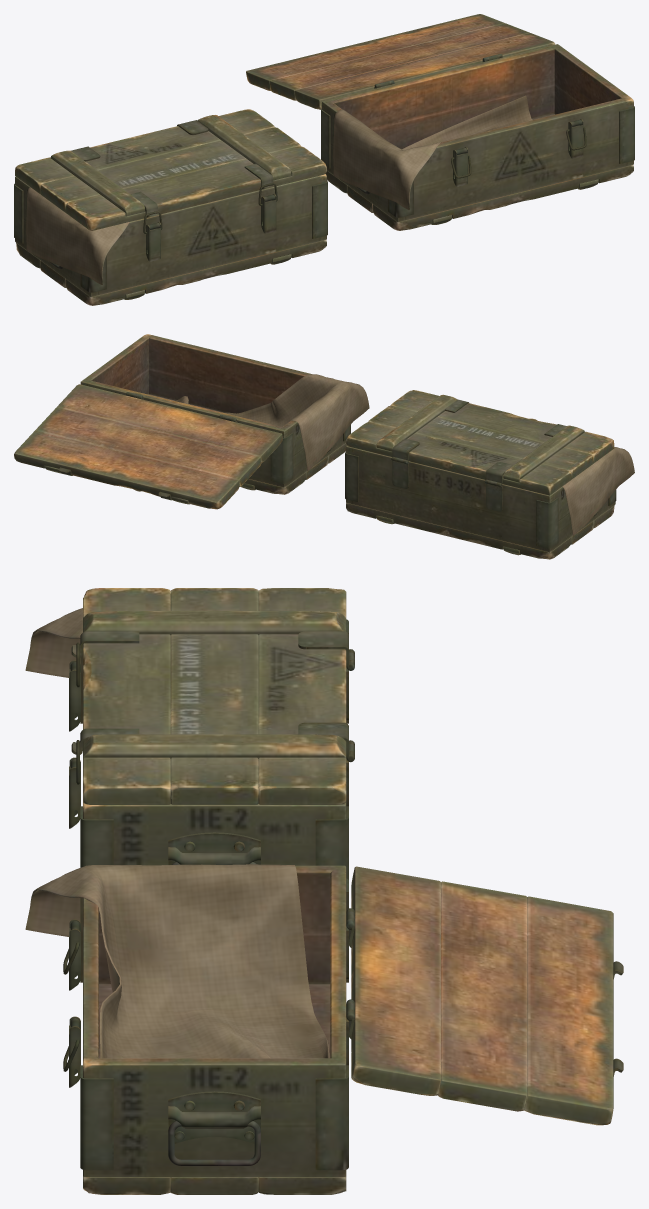
The model's file is old_military_crate.glb.
The picture shows the model from 3 angles, top to bottom: view 1: azimuth 30°, elevation 25°; view 2: azimuth 150°, elevation 25°; view 3: azimuth 270°, elevation 25°; orthographic projection. The views are drawn at different scales.
Parts seen in each view (by area): view 1: old_military_crate_b, old_military_crate_lid_a, old_military_crate_a, old_military_crate_lid_b, old_military_crate_cloth_b, old_military_crate_cloth_a, old_military_crate_latch_a, old_military_crate_latch_b; view 2: old_military_crate_lid_b, old_military_crate_lid_a, old_military_crate_a, old_military_crate_b, old_military_crate_cloth_b, old_military_crate_cloth_a; view 3: old_military_crate_lid_a, old_military_crate_lid_b, old_military_crate_b, old_military_crate_cloth_b, old_military_crate_a, old_military_crate_cloth_a, old_military_crate_latch_b, old_military_crate_latch_a.
Part boxes in pixels (x1,y1,x2,y2): old_military_crate_b: (321, 44, 634, 230); old_military_crate_lid_a: (15, 109, 326, 230); old_military_crate_a: (14, 174, 327, 305); old_military_crate_lid_b: (246, 14, 555, 109); old_military_crate_cloth_b: (333, 95, 532, 209); old_military_crate_cloth_a: (26, 187, 129, 284); old_military_crate_latch_a: (146, 194, 276, 261); old_military_crate_latch_b: (453, 119, 583, 186); old_military_crate_lid_b: (14, 384, 282, 509); old_military_crate_lid_a: (346, 390, 614, 495); old_military_crate_a: (345, 446, 616, 559); old_military_crate_b: (80, 334, 350, 494); old_military_crate_cloth_b: (174, 374, 369, 470); old_military_crate_cloth_a: (562, 447, 634, 535); old_military_crate_lid_a: (71, 588, 354, 804); old_military_crate_lid_b: (346, 866, 623, 1125); old_military_crate_b: (80, 865, 354, 1194); old_military_crate_cloth_b: (25, 864, 329, 1058); old_military_crate_a: (80, 619, 354, 879); old_military_crate_cloth_a: (25, 608, 82, 677); old_military_crate_latch_b: (69, 919, 80, 1087); old_military_crate_latch_a: (69, 660, 80, 828).
Size of the model in its own units: 1.82 by 0.3009 by 0.9757.
Materials: 1 (1 with a texture image).
